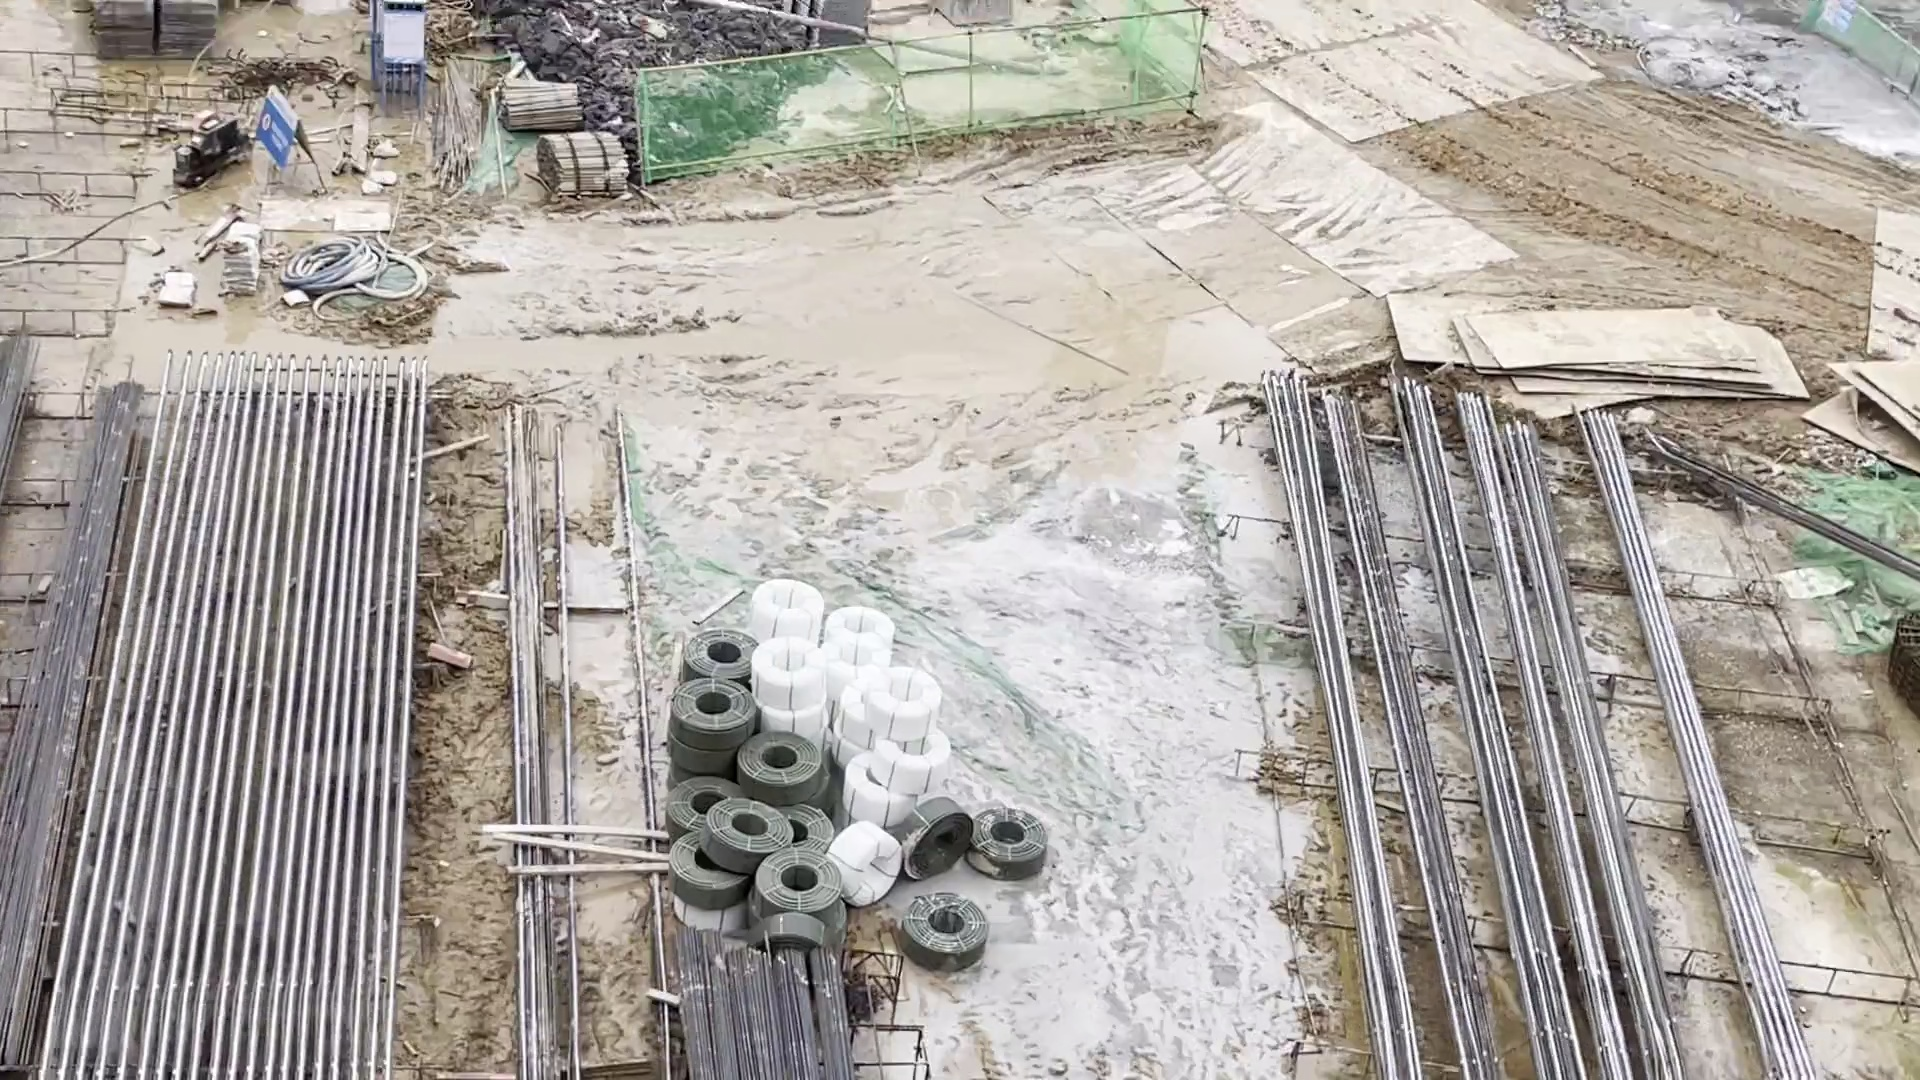rebar: (1247, 356, 1809, 1080), (1, 335, 166, 1080), (674, 916, 877, 1080)
